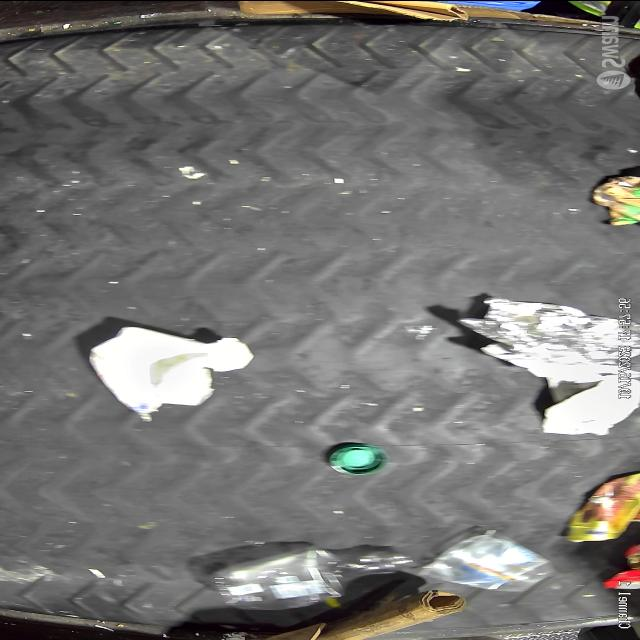can: (592, 175, 640, 224)
milk_jug: (87, 325, 255, 421)
plastic_bottle: (212, 546, 416, 612)
